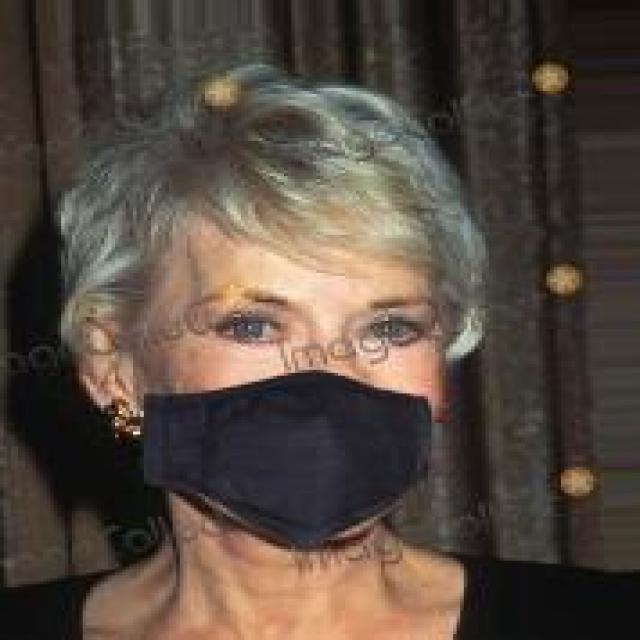mask: (72, 74, 554, 578)
